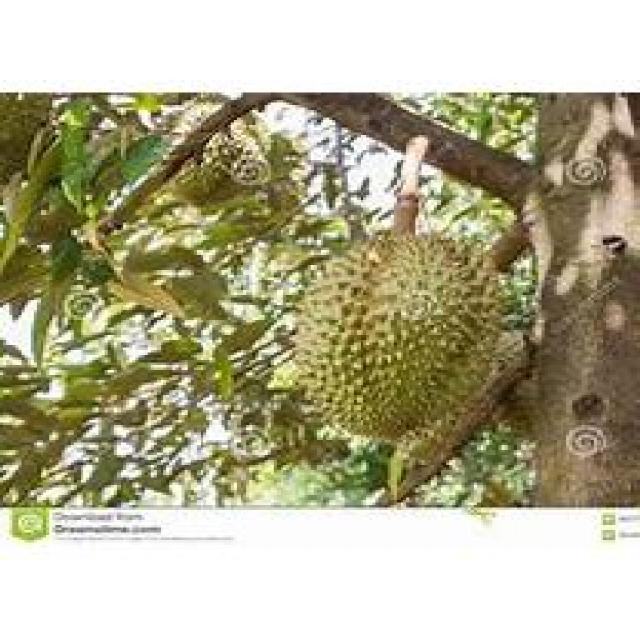fruit: (262, 202, 536, 460)
